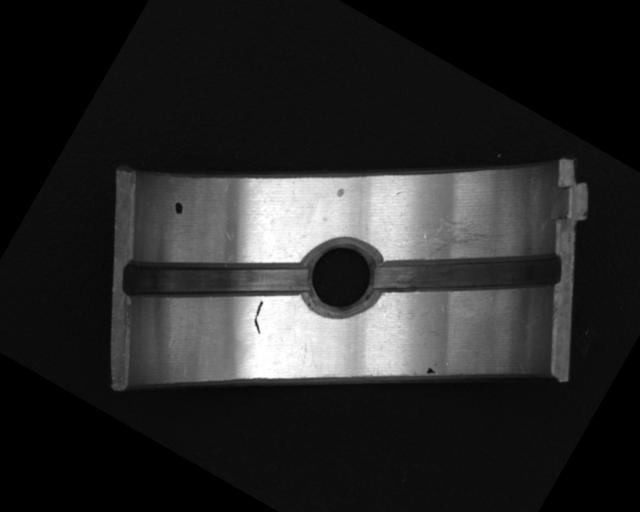blot: (169, 199, 186, 217), (423, 364, 437, 378)
bruise: (333, 186, 347, 201)
gap: (367, 181, 566, 364), (122, 192, 312, 365)
hole: (289, 226, 394, 332)
nick: (244, 298, 274, 334)
scratch: (413, 196, 511, 289)
